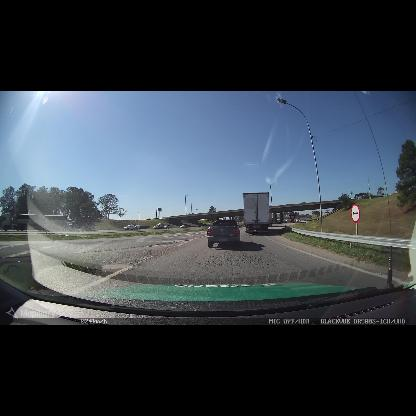R-2: (289, 215, 296, 222)
R-24a: (351, 204, 361, 223)
